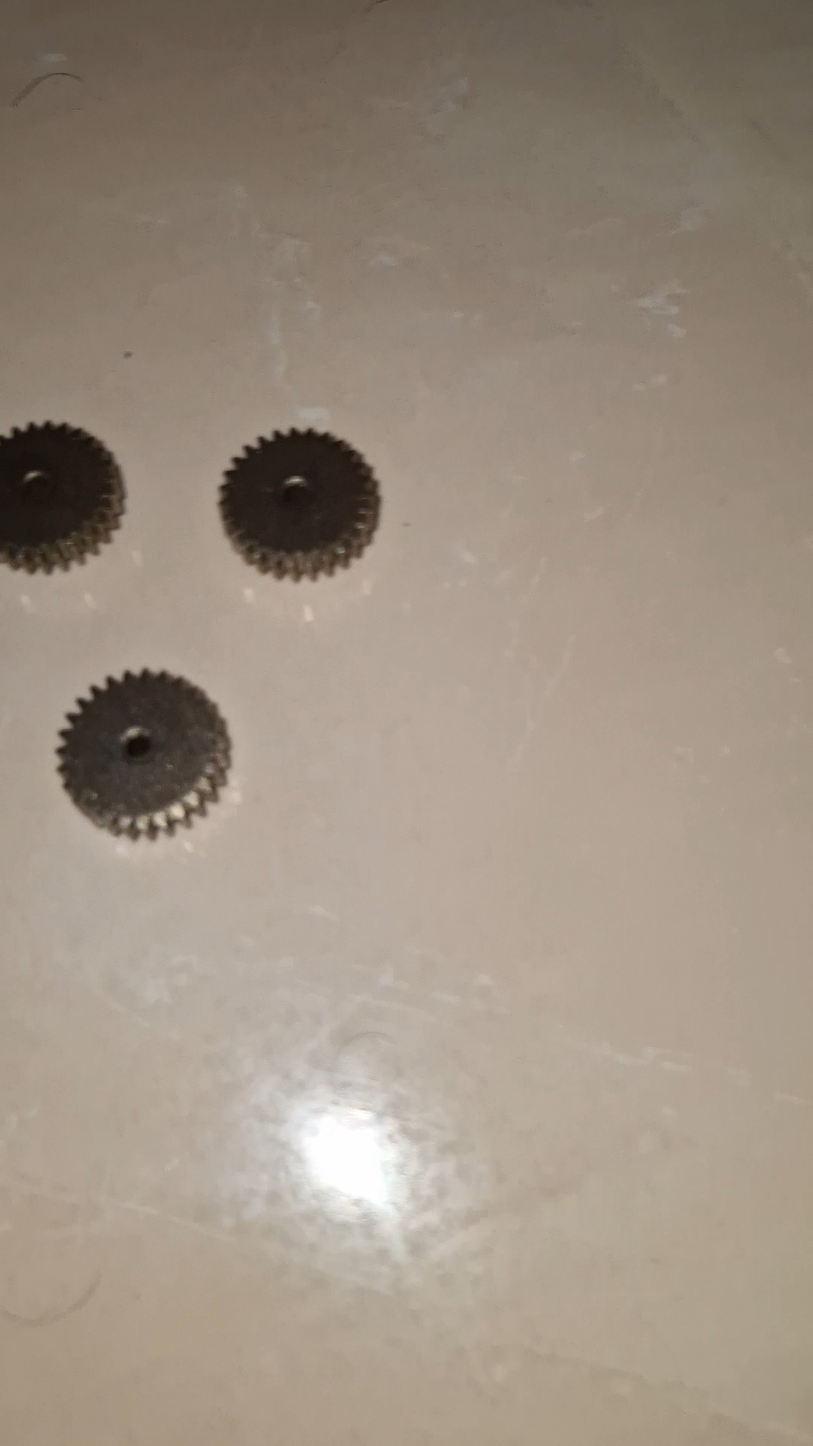spur gear: (58, 670, 230, 838), (219, 430, 380, 580), (0, 423, 124, 572)
